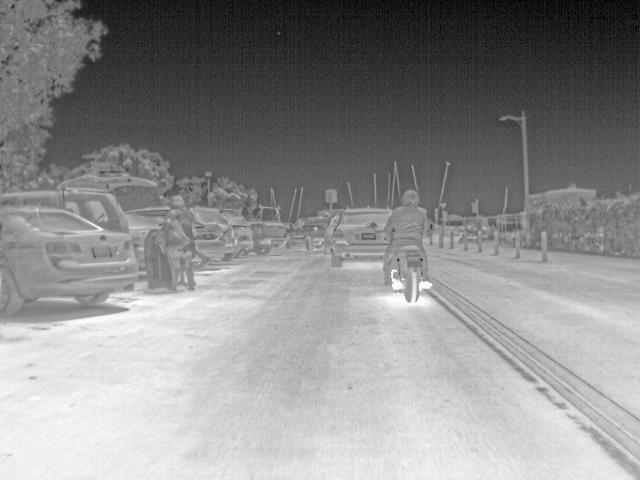car: (1, 202, 140, 318), (2, 190, 131, 236), (328, 206, 391, 266), (219, 211, 259, 257), (251, 224, 291, 255), (289, 226, 325, 253), (202, 225, 226, 262), (128, 205, 171, 223)
person: (384, 188, 431, 290), (166, 191, 198, 287)
